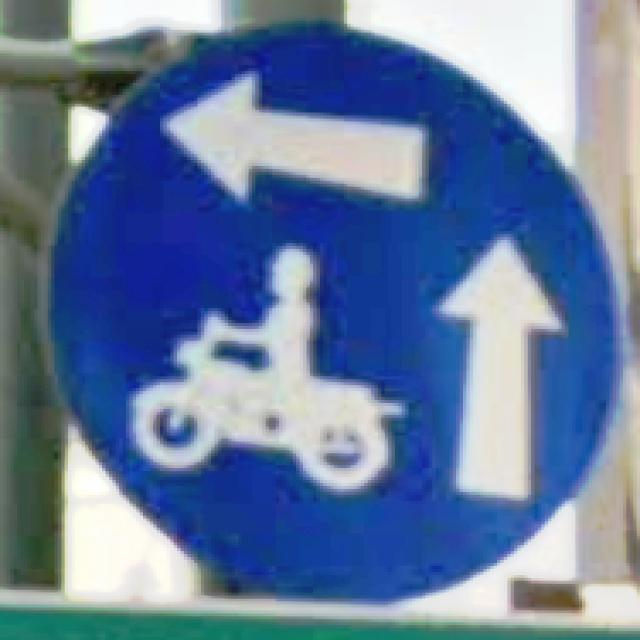twostageturn: (41, 15, 630, 604)
